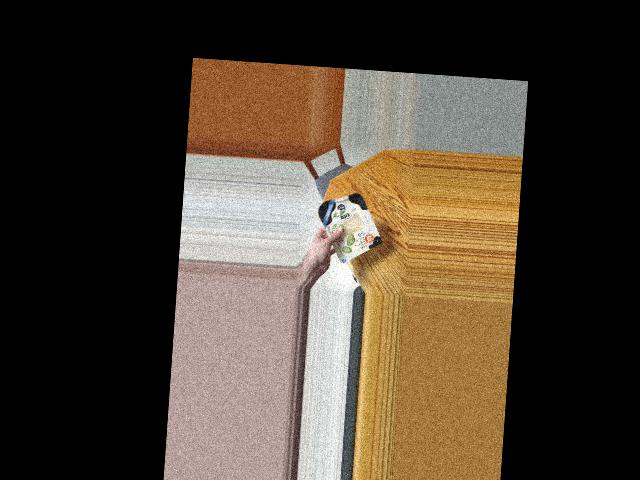cheese: (316, 191, 381, 257)
